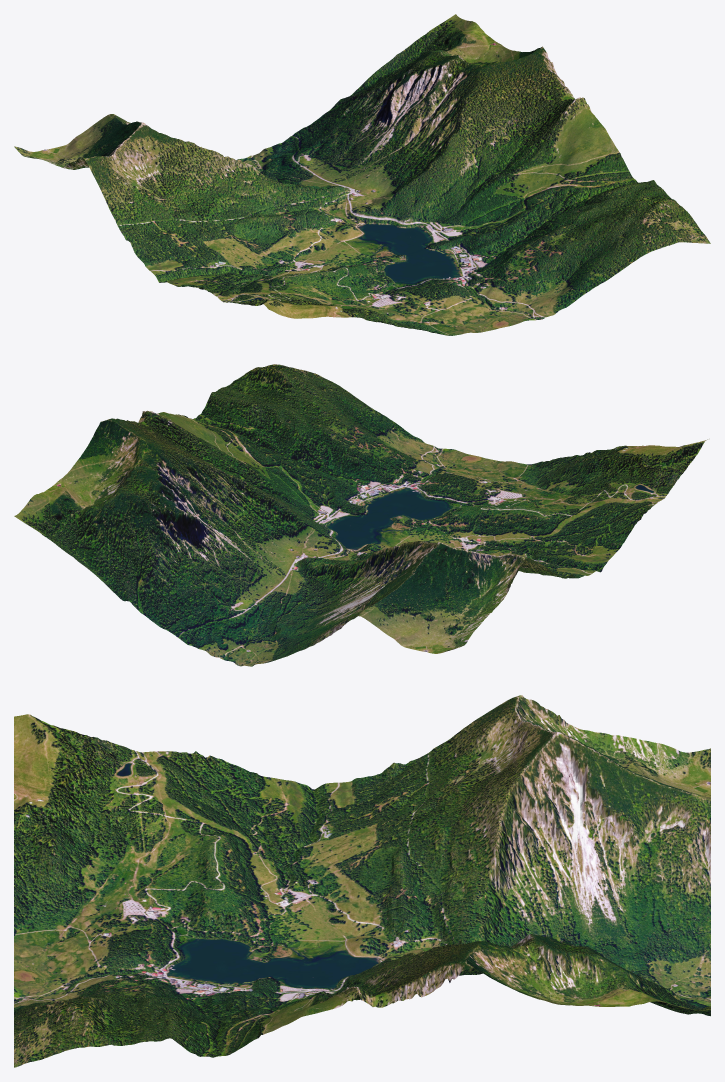
Rendered from asset.glb.
3 views of the same model, one above another, from view 1: azimuth 30°, elevation 25°; view 2: azimuth 150°, elevation 25°; view 3: azimuth 270°, elevation 25° (orthographic). The views are drawn at different scales.
Visible parts, largest first — view 1: 2024_Spitzingsee_DGM_10m; view 2: 2024_Spitzingsee_DGM_10m; view 3: 2024_Spitzingsee_DGM_10m.
Part boxes in pixels (left/top/right/bottom): 2024_Spitzingsee_DGM_10m: left=14, top=14, right=710, bottom=335; 2024_Spitzingsee_DGM_10m: left=14, top=364, right=707, bottom=666; 2024_Spitzingsee_DGM_10m: left=14, top=695, right=710, bottom=1067.
Size of what is drawn, in the model's own units: 2990 by 824 by 2990.
Materials: 1 (1 with a texture image).
